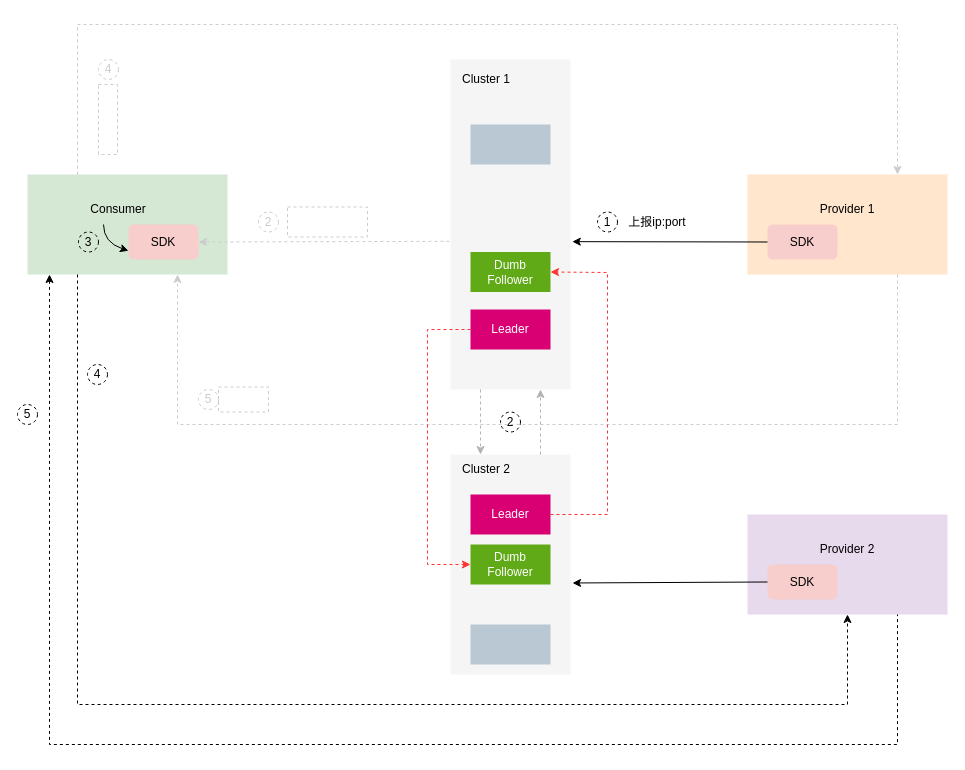
Image size: 965x770. Some labels were removed from this diagram. Here are the shapes that lost their labels. From the top down, the box of each, then its label:
(98, 84, 118, 154): 服务调用
(286, 206, 368, 237): 获取服务列表
(218, 386, 268, 412): 响应
